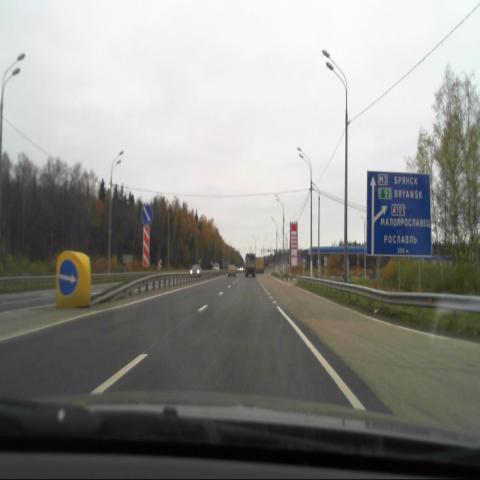4_1_2_1: (57, 258, 77, 296)
